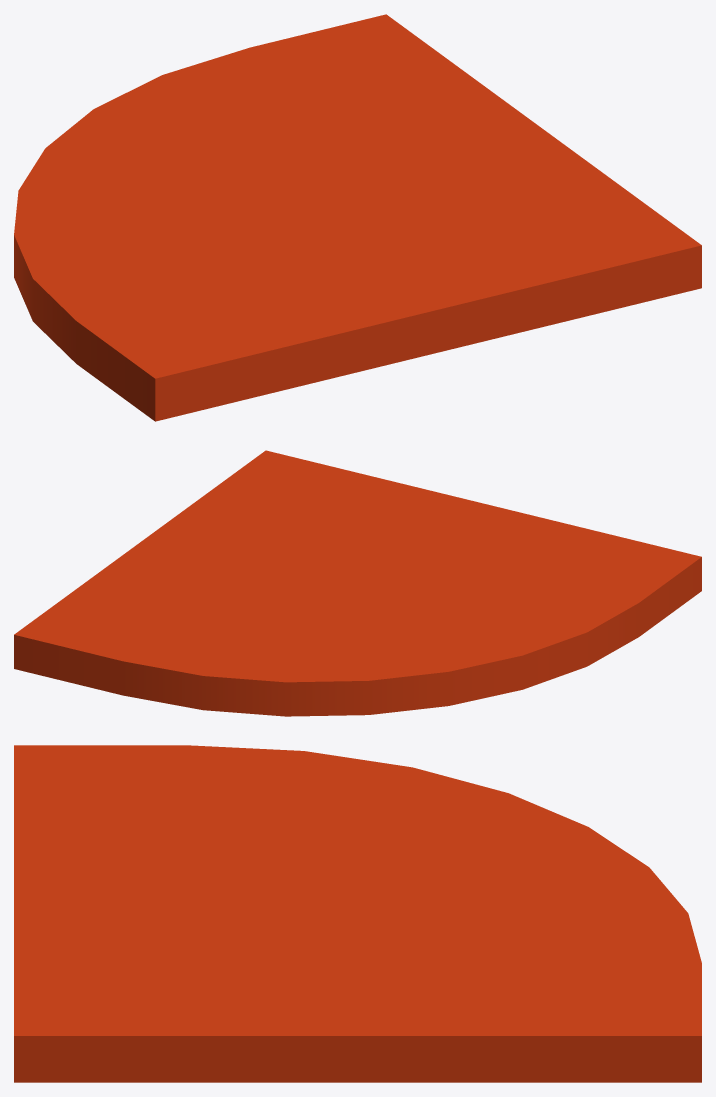
File: mensolaCurvaArancio.obj
3 renders of one model, top to bottom at view 1: azimuth 30°, elevation 25°; view 2: azimuth 150°, elevation 25°; view 3: azimuth 270°, elevation 25°, orthographic. The views are drawn at different scales.
Parts seen in each view (by area): view 1: Rectangle12_1; view 2: Rectangle12_1; view 3: Rectangle12_1.
Boxes of the visible parts, x1=… form: Rectangle12_1: x1=14, y1=14, x2=701, y2=421; Rectangle12_1: x1=14, y1=450, x2=701, y2=716; Rectangle12_1: x1=14, y1=745, x2=701, y2=1082.
Size of the model in its own units: 40 by 3 by 40.
